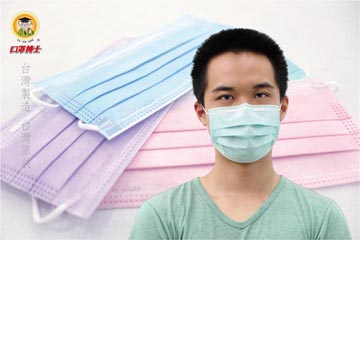Mask: (201, 55, 280, 165)
